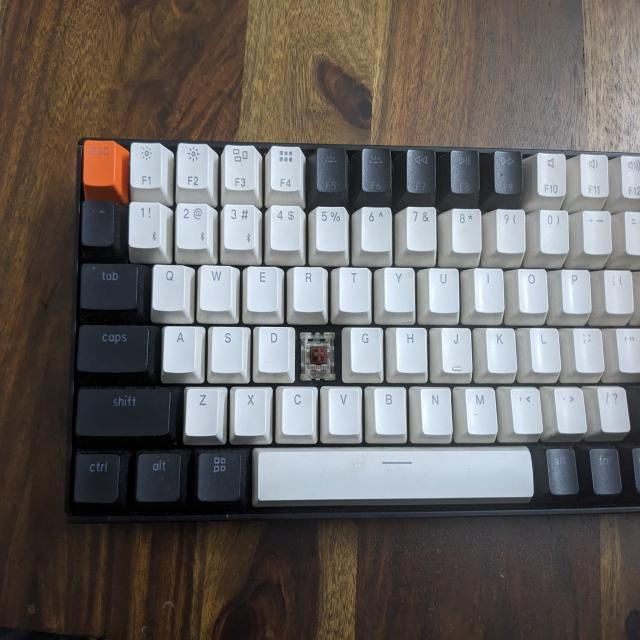key-switch: (297, 331, 340, 380)
